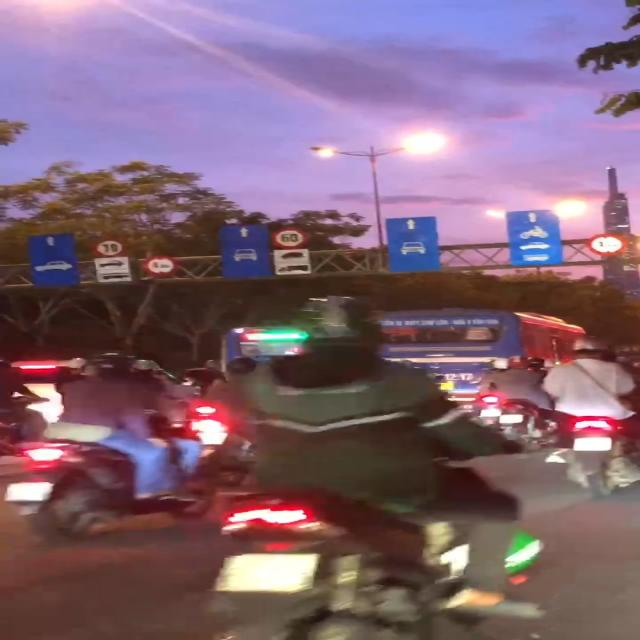Bien bao toc do toi da cho phep: (272, 227, 308, 249), (92, 239, 128, 259)
